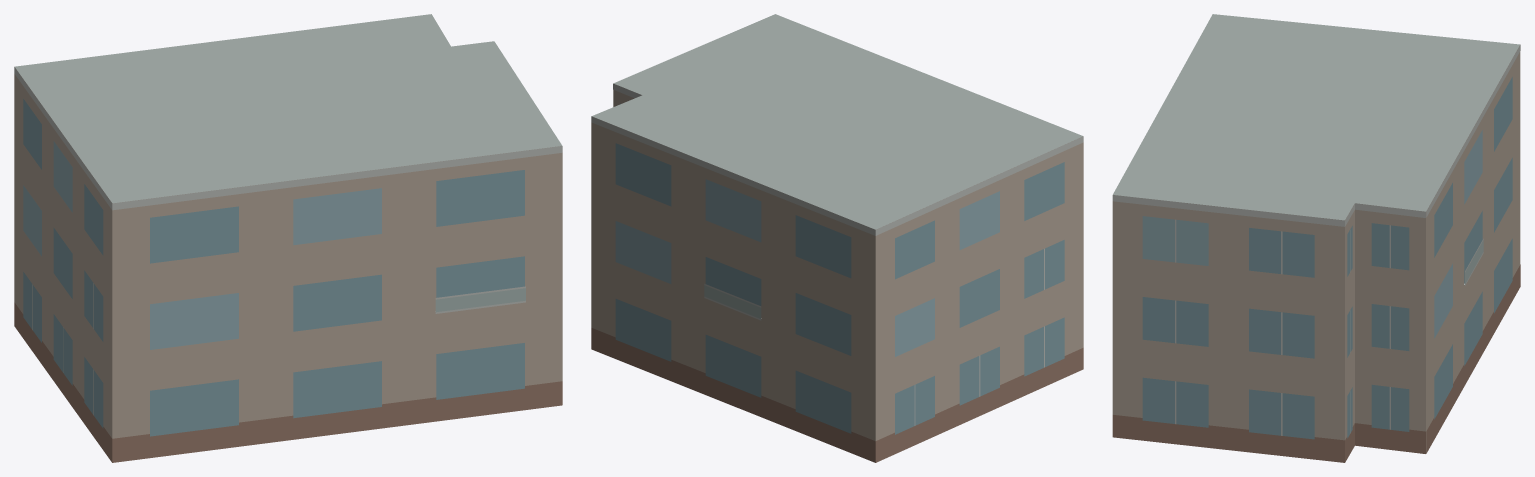
The model's file is survey-upis-32801108.glb.
3 renders of one model, left to right at view 1: azimuth 30°, elevation 25°; view 2: azimuth 150°, elevation 25°; view 3: azimuth 270°, elevation 25°, orthographic. The views are drawn at different scales.
Visible parts, largest first — view 1: survey-upis-32801108.tmp; view 2: survey-upis-32801108.tmp; view 3: survey-upis-32801108.tmp.
Boxes of the visible parts, box(x1,y1,x2,y2) form: survey-upis-32801108.tmp: box(14, 14, 562, 462); survey-upis-32801108.tmp: box(591, 14, 1083, 462); survey-upis-32801108.tmp: box(1112, 14, 1520, 462).
Size of the model in its own units: 16.72 by 9.15 by 13.96.
